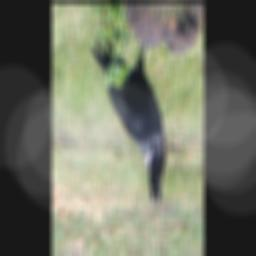Crow: (90, 32, 167, 206)
